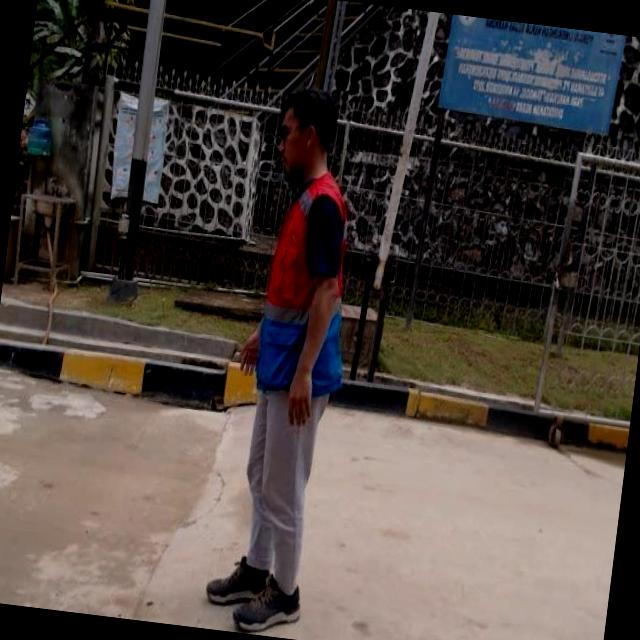boots: (226, 567, 313, 640), (184, 545, 276, 612)
no-gloves: (254, 282, 346, 441)
no-helmet: (260, 80, 354, 198)
vest: (235, 144, 378, 413)
